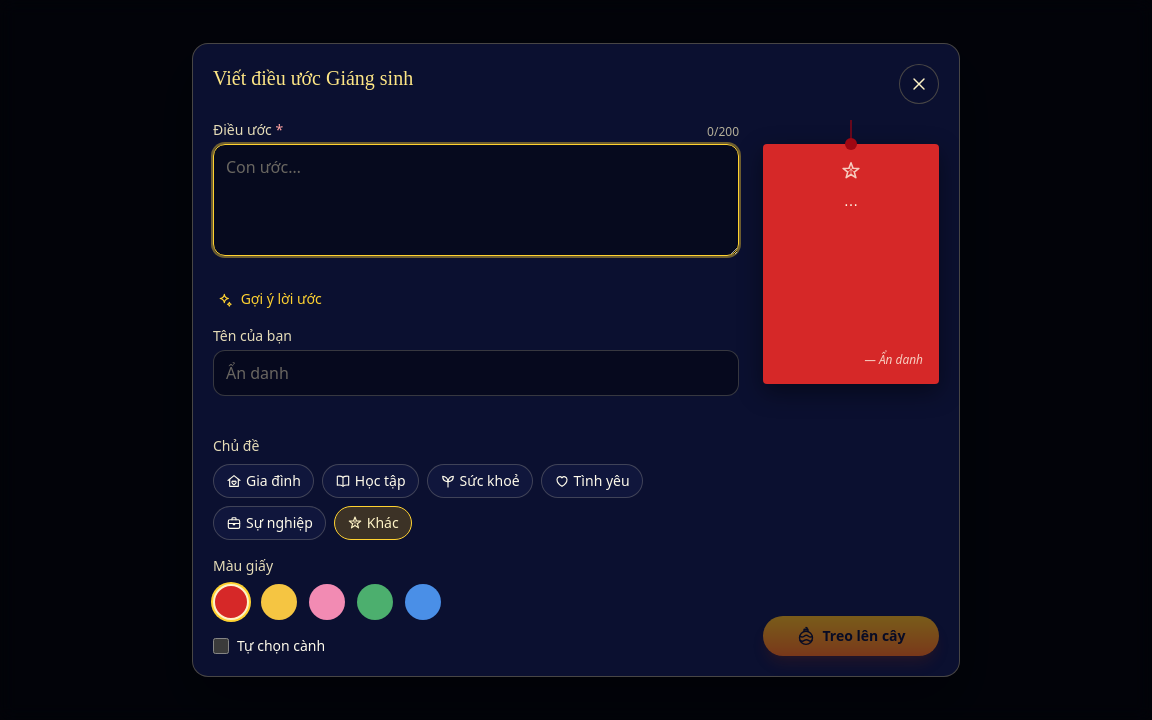
Test: WishComposer (002) › AC-002-08: nội dung HTML hiển thị nguyên văn
Step 1. Type "<img src=x onerror=alert(1)>" into the text box labelled "Điều ước *" → (476, 200), box [213, 144, 739, 256]
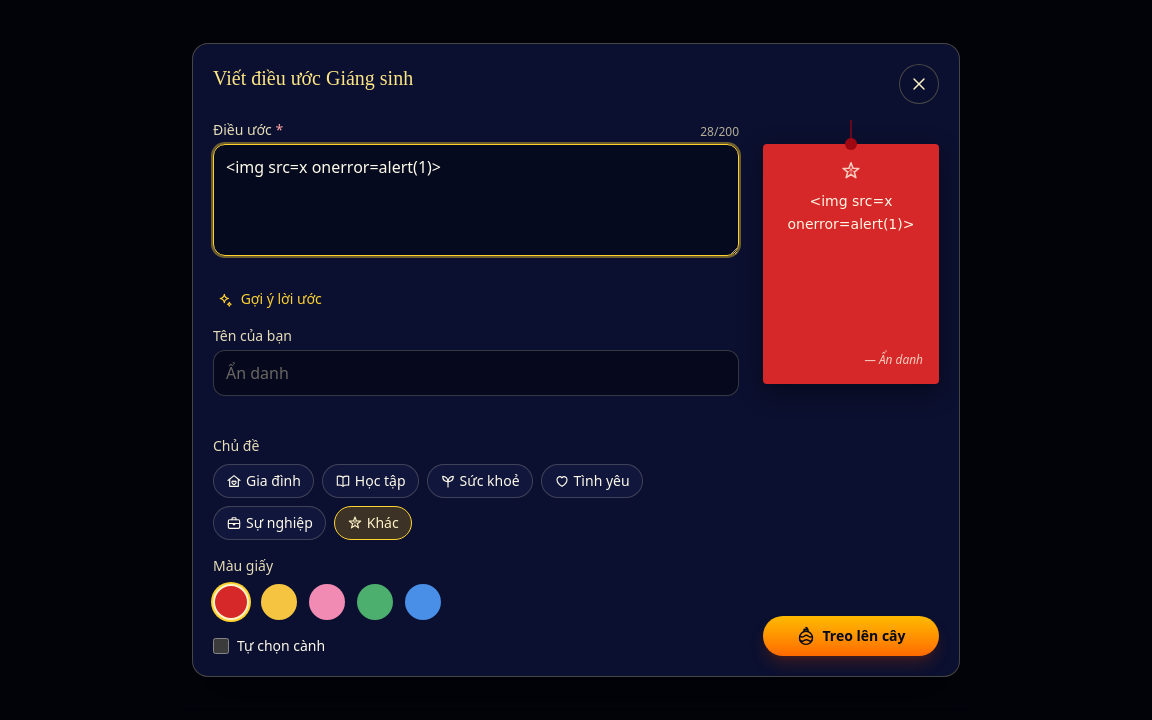
Expected: the element showing "<img src=x onerror=alert(1)> — Ẩn danh" is shown, [763, 144, 939, 384]
